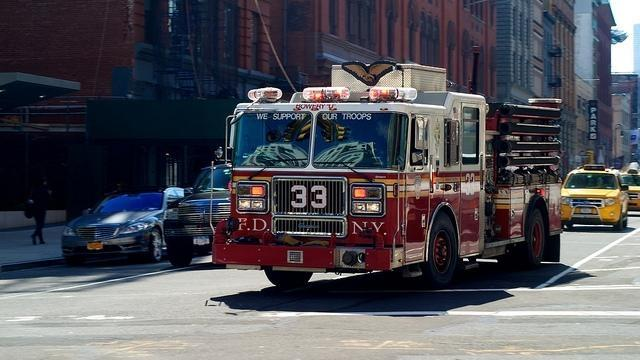car: (61, 185, 185, 268), (162, 158, 229, 270), (561, 163, 631, 233), (619, 172, 640, 210)
truck: (193, 58, 570, 289), (160, 170, 198, 270)
